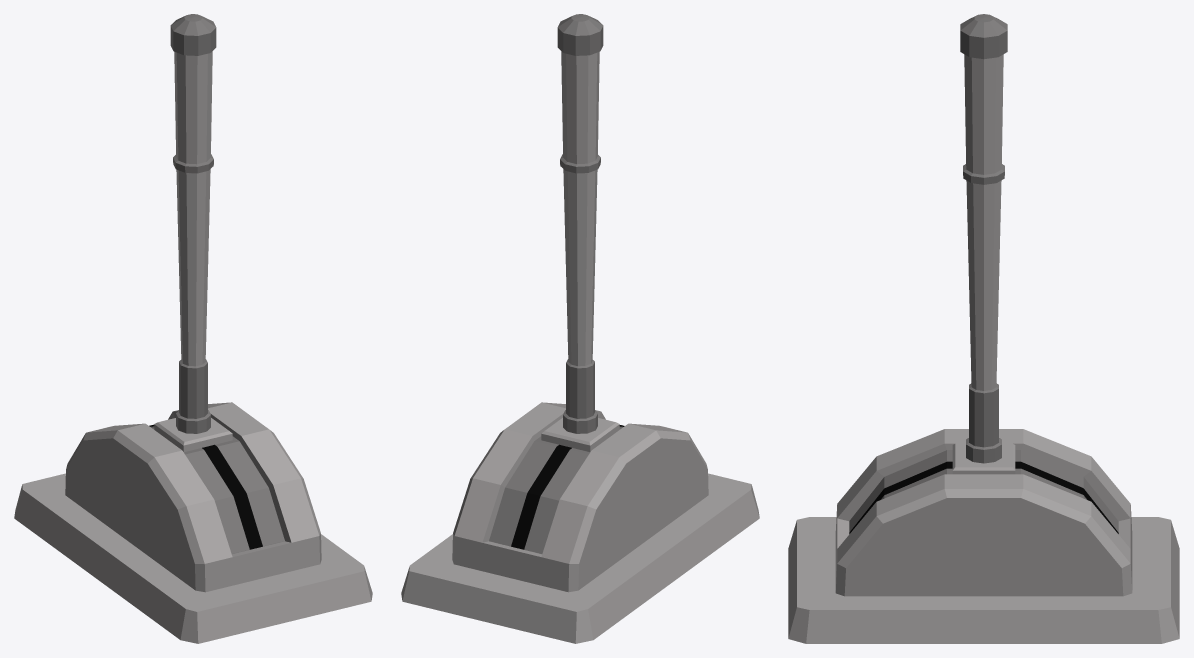
Rendered from MetalFloorLever_5.fbx.
3 renders of one model, left to right at view 1: azimuth 30°, elevation 25°; view 2: azimuth 150°, elevation 25°; view 3: azimuth 270°, elevation 25°, orthographic. The views are drawn at different scales.
Parts seen in each view (by area): view 1: MetalFloorLever_5_Casing, MetalFloorLever_5_Handle; view 2: MetalFloorLever_5_Casing, MetalFloorLever_5_Handle; view 3: MetalFloorLever_5_Casing, MetalFloorLever_5_Handle.
Boxes of the visible parts, bbox=[...] form: MetalFloorLever_5_Casing: bbox=[14, 402, 372, 643]; MetalFloorLever_5_Handle: bbox=[154, 14, 232, 451]; MetalFloorLever_5_Casing: bbox=[401, 402, 759, 643]; MetalFloorLever_5_Handle: bbox=[541, 14, 619, 451]; MetalFloorLever_5_Casing: bbox=[788, 429, 1179, 643]; MetalFloorLever_5_Handle: bbox=[952, 14, 1015, 474].
Size of the model in its own units: 24.51 by 65.58 by 40.37.
